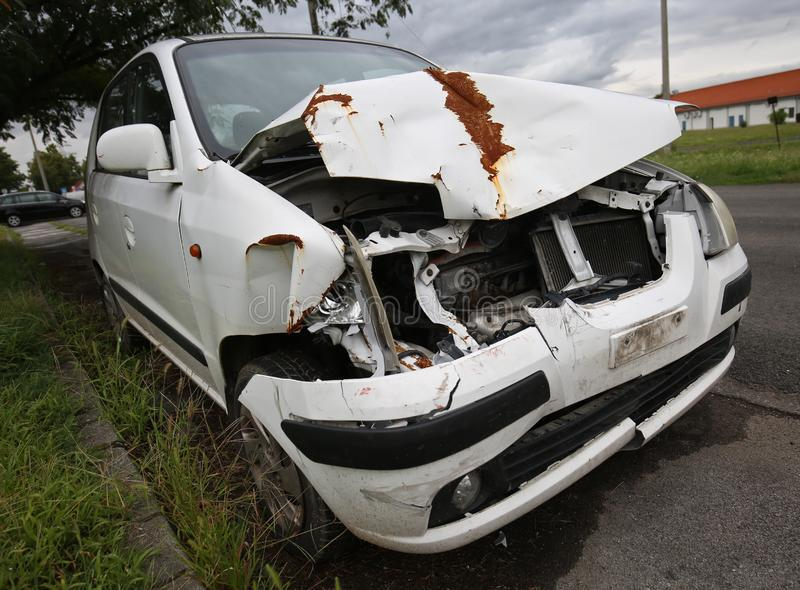bonnet-dent: (239, 62, 705, 214)
fender-dent: (180, 169, 330, 410)
front-bumper-dent: (227, 299, 793, 550)
